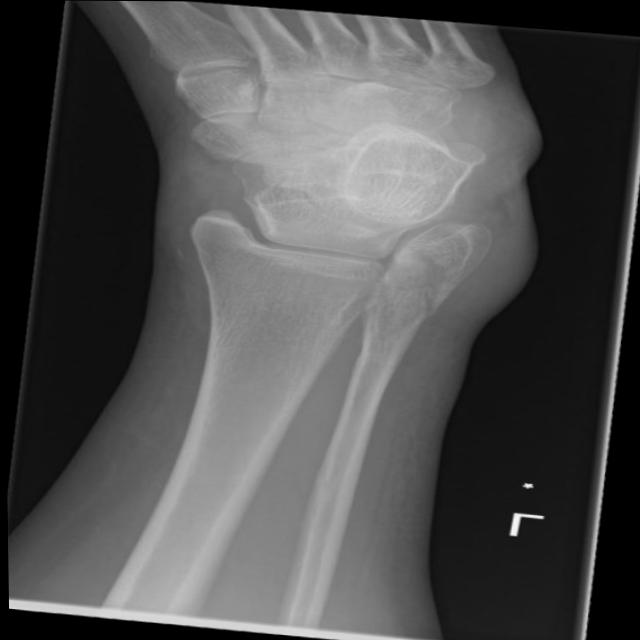Oblique Displaced: (394, 233, 490, 322)
